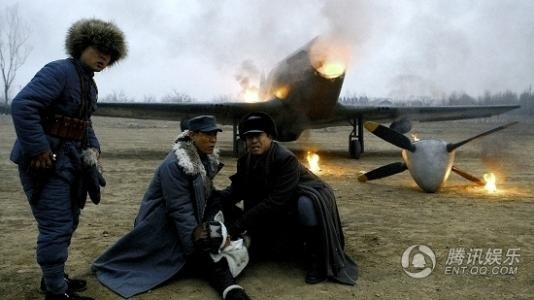fire: (314, 55, 347, 78), (480, 171, 499, 193), (303, 149, 321, 172)
